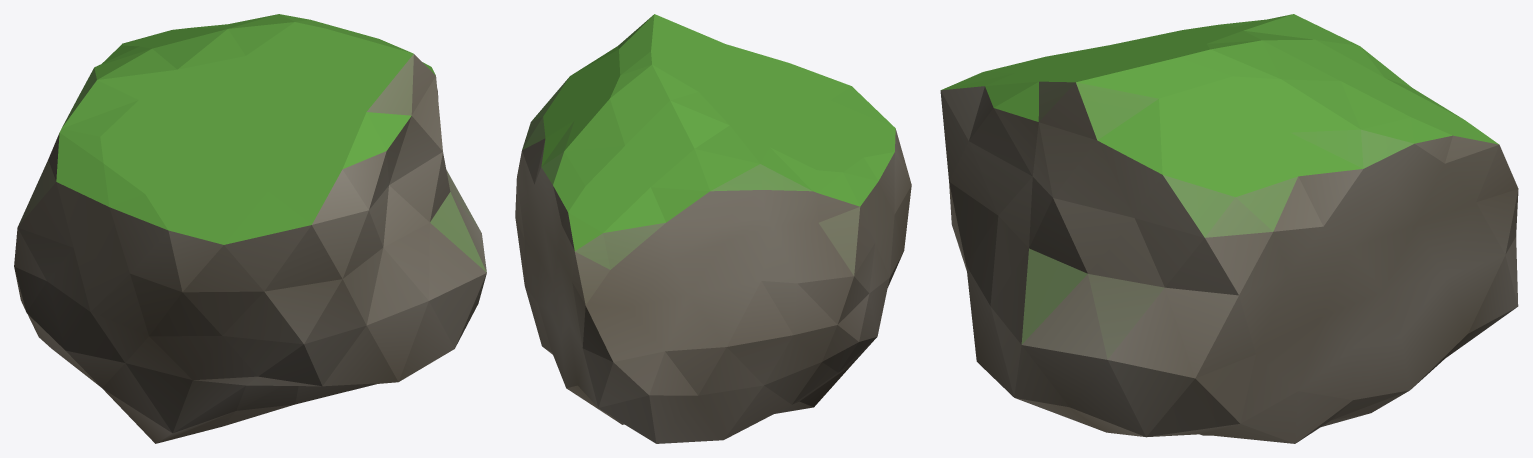
File: world_boulder_mossy_b.fbx
The picture shows the model from 3 angles, left to right: view 1: azimuth 30°, elevation 25°; view 2: azimuth 150°, elevation 25°; view 3: azimuth 270°, elevation 25°; orthographic projection. The views are drawn at different scales.
Parts seen in each view (by area): view 1: world_boulder_mossy_b; view 2: world_boulder_mossy_b; view 3: world_boulder_mossy_b.
Part boxes in pixels (<box>): world_boulder_mossy_b: <box>14,14,486,443</box>; world_boulder_mossy_b: <box>515,14,911,443</box>; world_boulder_mossy_b: <box>940,14,1518,443</box>.
Size of the model in its own units: 360 by 315 by 391.
